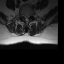CCS_normal: (25, 14, 27, 22)
LFS_stenosis: (29, 13, 31, 18)
LLS_normal: (27, 14, 29, 21)
RFS_normal: (21, 13, 23, 19)
RLS_normal: (23, 14, 25, 21)
